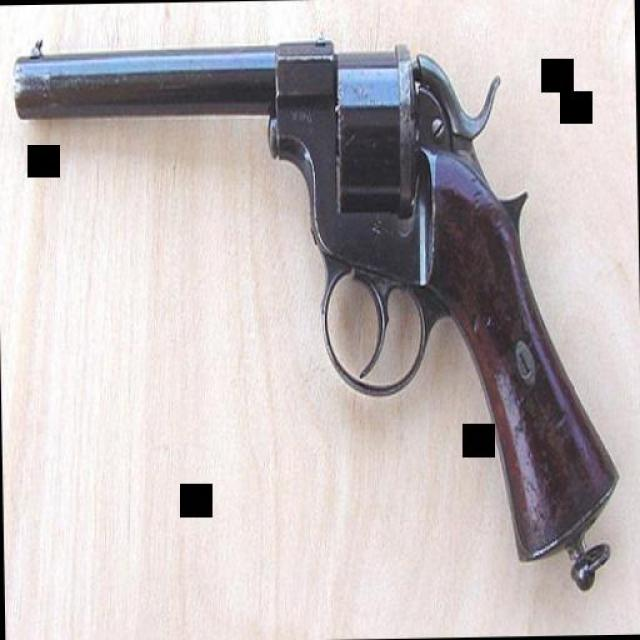gun: (7, 25, 615, 560)
